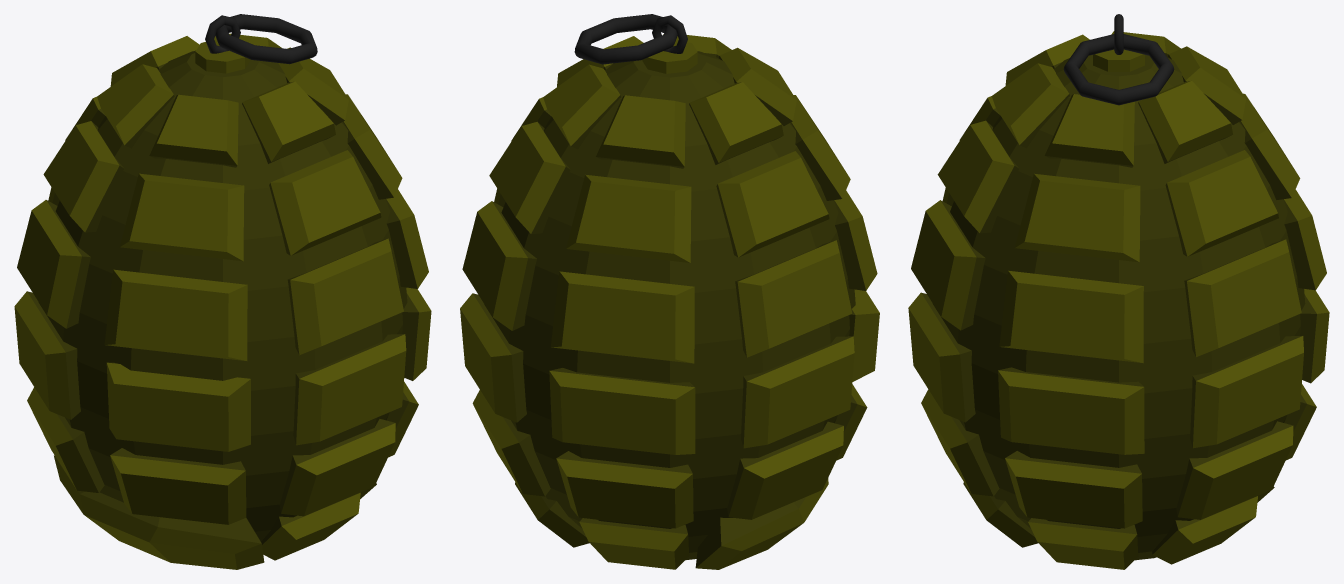
File: Grenade.fbx
3 views of the same model, side by side, from view 1: azimuth 30°, elevation 25°; view 2: azimuth 150°, elevation 25°; view 3: azimuth 270°, elevation 25° (orthographic).
Visible parts, largest first — view 1: Grenade; view 2: Grenade; view 3: Grenade.
Boxes of the visible parts, x1=… form: Grenade: x1=14, y1=14, x2=431, y2=569; Grenade: x1=460, y1=14, x2=879, y2=569; Grenade: x1=908, y1=14, x2=1329, y2=569.
Size of the model in its own units: 8.97 by 12.57 by 8.97.
